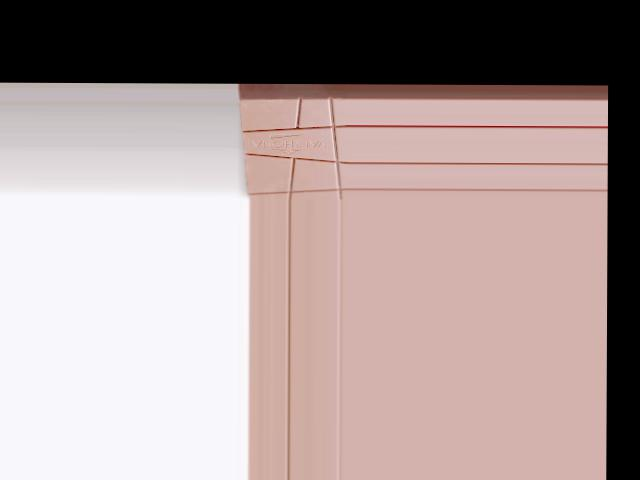chocolate: (236, 92, 348, 199)
